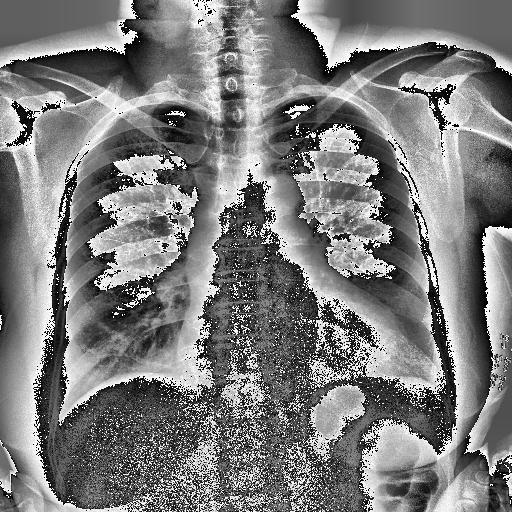0- Aortic enlargement: (238, 174, 308, 228), (253, 174, 301, 210)
11- Pleural thickening: (270, 96, 322, 106), (132, 100, 184, 110)
3- Cardiomegaly: (171, 317, 409, 393), (174, 304, 409, 376), (174, 329, 422, 377)
